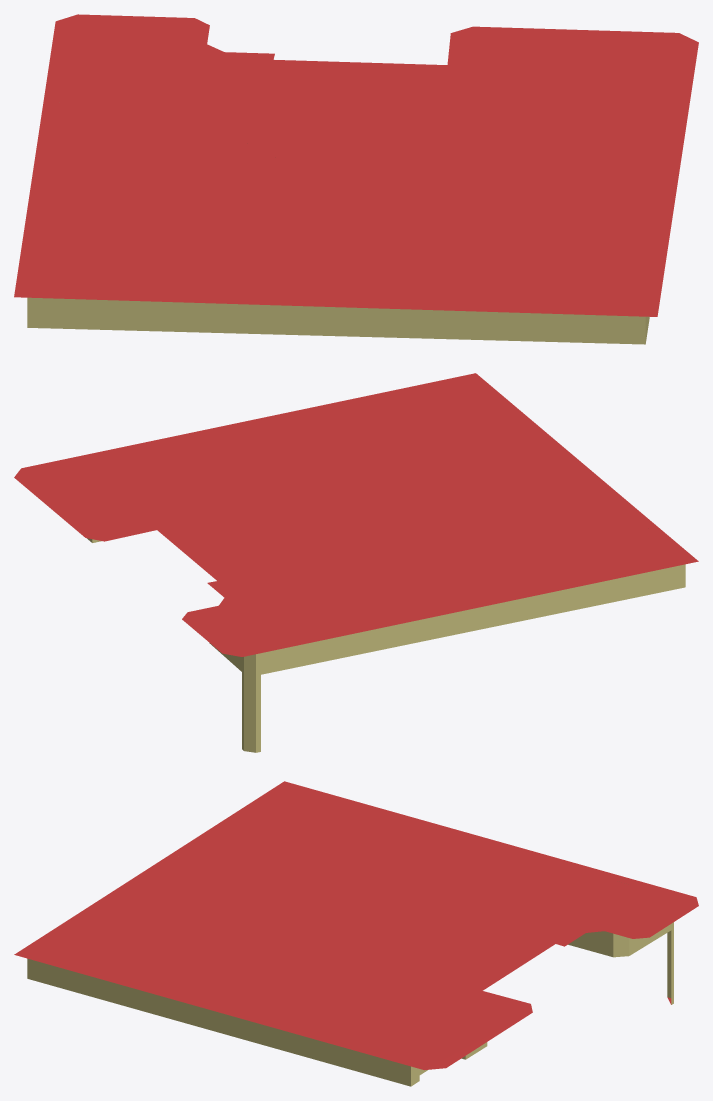
3 views of the same model, one above another, from view 1: azimuth 30°, elevation 25°; view 2: azimuth 150°, elevation 25°; view 3: azimuth 270°, elevation 25° (orthographic). The views are drawn at different scales.
Visible parts, largest first — view 1: group_3, group_4, group_5; view 2: group_3, group_4, group_5; view 3: group_3, group_4, group_5.
Part boxes in pixels (box(x1,y1,x2,y2)): group_3: box(21, 16, 698, 316); group_4: box(14, 14, 693, 316); group_5: box(27, 297, 649, 344); group_3: box(14, 373, 685, 647); group_4: box(26, 374, 698, 656); group_5: box(87, 538, 685, 752); group_3: box(14, 787, 673, 1070); group_4: box(17, 781, 698, 1067); group_5: box(27, 922, 673, 1086).
Bounding box in the file's own units: 70.64 × 71.23 × 11.68.
